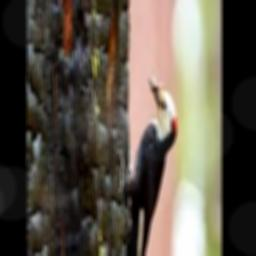Woodpecker: (117, 72, 176, 256)
